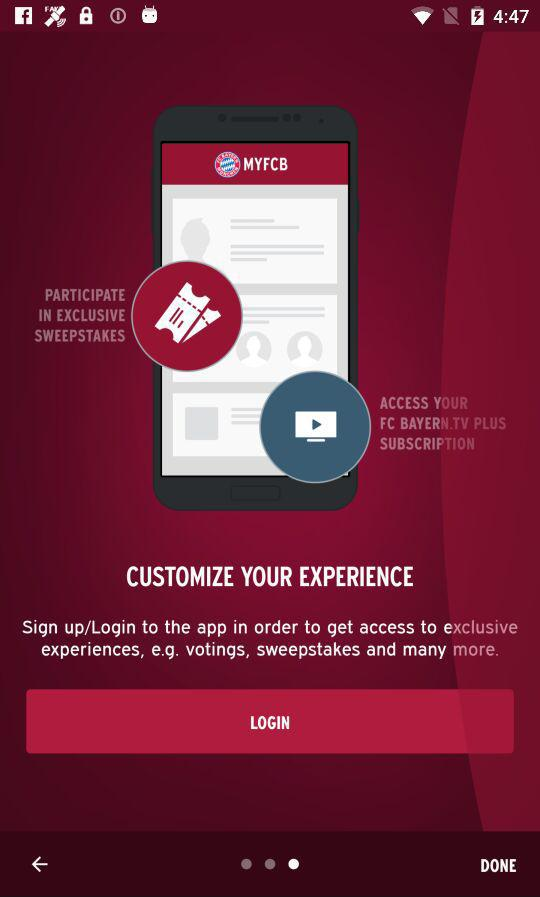Icon: (32, 856, 49, 873)
Image: (34, 105, 507, 512)
PageIndicator: (241, 858, 301, 870)
Text: (22, 619, 518, 660), (127, 565, 414, 588), (480, 859, 517, 873)
TextButton: (26, 688, 515, 755)
UpperTaskBar: (1, 1, 540, 33)
